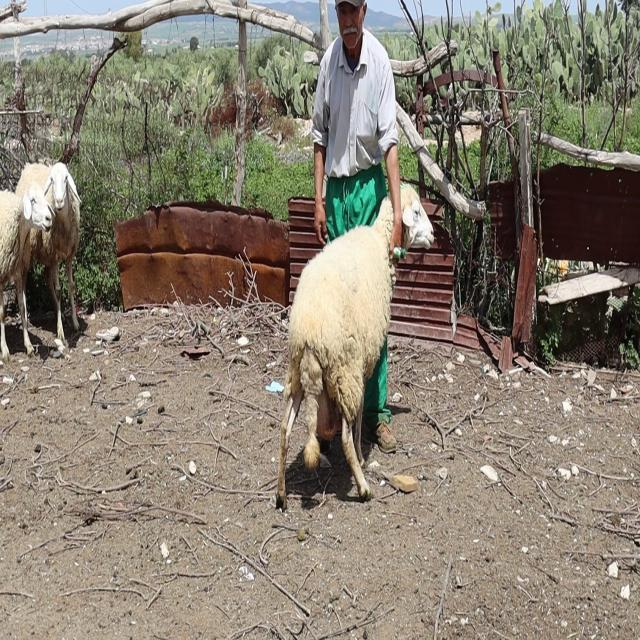Score_3: (276, 199, 396, 508)
